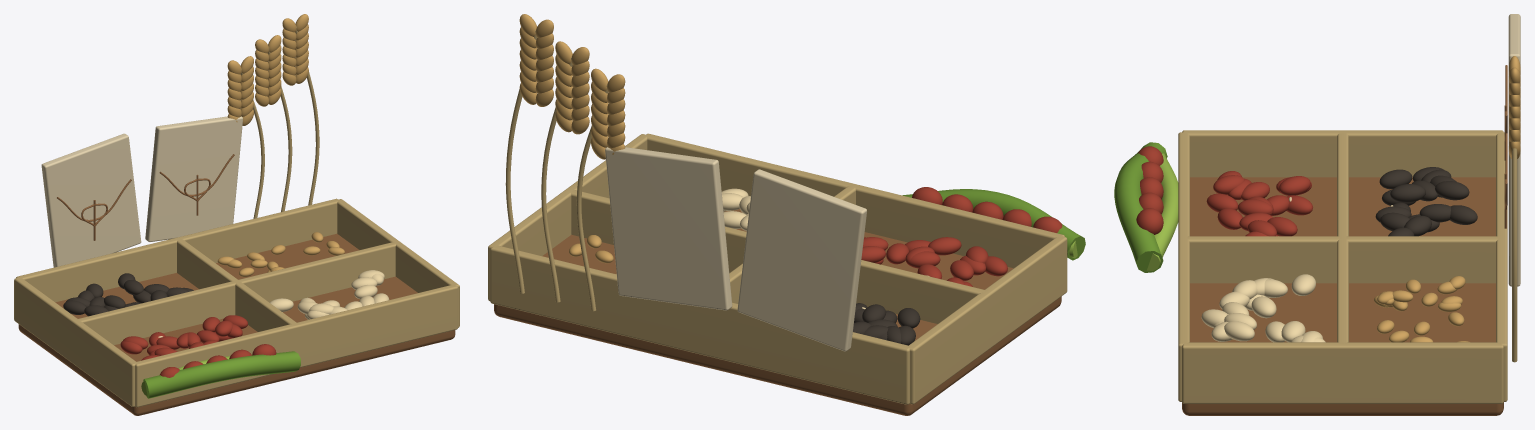
Rendered from seeds-fe009484b1b2.glb.
3 views of the same model, side by side, from view 1: azimuth 30°, elevation 25°; view 2: azimuth 150°, elevation 25°; view 3: azimuth 270°, elevation 25° (orthographic). The views are drawn at different scales.
Visible parts, largest first — view 1: Cube.004, Cube.007, Cube.008, Cube.006, Cube.005, Cube, Cube.001, Cube.003, Cube.002, Stem / vein.011, Stem / vein.010, Stem / vein.009 (+1 smaller); view 2: Cube.006, Cube.007, Cube.008, Cube.004, Cube.001, Cube, Cube.005, Cube.003, Stem / vein.011, Stem / vein.010, Stem / vein.009, Stem / vein.008 (+1 smaller); view 3: Cube, Cube.003, Cube.002, Cube.001, Stem / vein.011, Cube.004, Cube.006, Cube.005, Stem / vein.012, Stem / vein.010, Cube.008, Cube.007 (+21 smaller).
Boxes of the visible parts, box(x1,y1,x2,y2) form: Cube.004: box(135, 285, 457, 407); Cube.007: box(41, 133, 141, 267); Cube.008: box(145, 116, 242, 241); Cube.006: box(16, 198, 338, 302); Cube.005: box(76, 242, 396, 344); Cube: box(18, 233, 455, 415); Cube.001: box(14, 277, 136, 406); Cube.003: box(337, 199, 459, 327); Cube.002: box(177, 238, 296, 331); Stem / vein.011: box(143, 351, 300, 398); Stem / vein.010: box(295, 26, 319, 205); Stem / vein.009: box(268, 48, 292, 211); Cube.006: box(490, 245, 909, 404); Cube.007: box(737, 169, 866, 351); Cube.008: box(605, 147, 732, 310); Cube.004: box(645, 133, 1064, 268); Cube.001: box(908, 236, 1067, 404); Cube: box(494, 209, 1061, 415); Cube.005: box(569, 190, 985, 323); Cube.003: box(488, 134, 647, 300); Stem / vein.011: box(902, 189, 1085, 260); Stem / vein.010: box(505, 30, 537, 293); Stem / vein.009: box(541, 57, 572, 302); Stem / vein.008: box(576, 85, 608, 311); Cube: box(1182, 177, 1503, 415); Cube.003: box(1182, 342, 1503, 403); Cube.002: box(1187, 236, 1500, 283); Cube.001: box(1182, 130, 1503, 177); Stem / vein.011: box(1114, 142, 1167, 272); Cube.004: box(1178, 132, 1189, 401); Cube.006: box(1496, 132, 1507, 401); Cube.005: box(1337, 132, 1348, 343); Stem / vein.012: box(1147, 153, 1178, 270); Stem / vein.010: box(1512, 141, 1517, 362); Cube.008: box(1508, 87, 1520, 286); Cube.007: box(1508, 14, 1520, 75).
Bounding box in the file's own units: 2.39 × 1.7 × 1.89.
